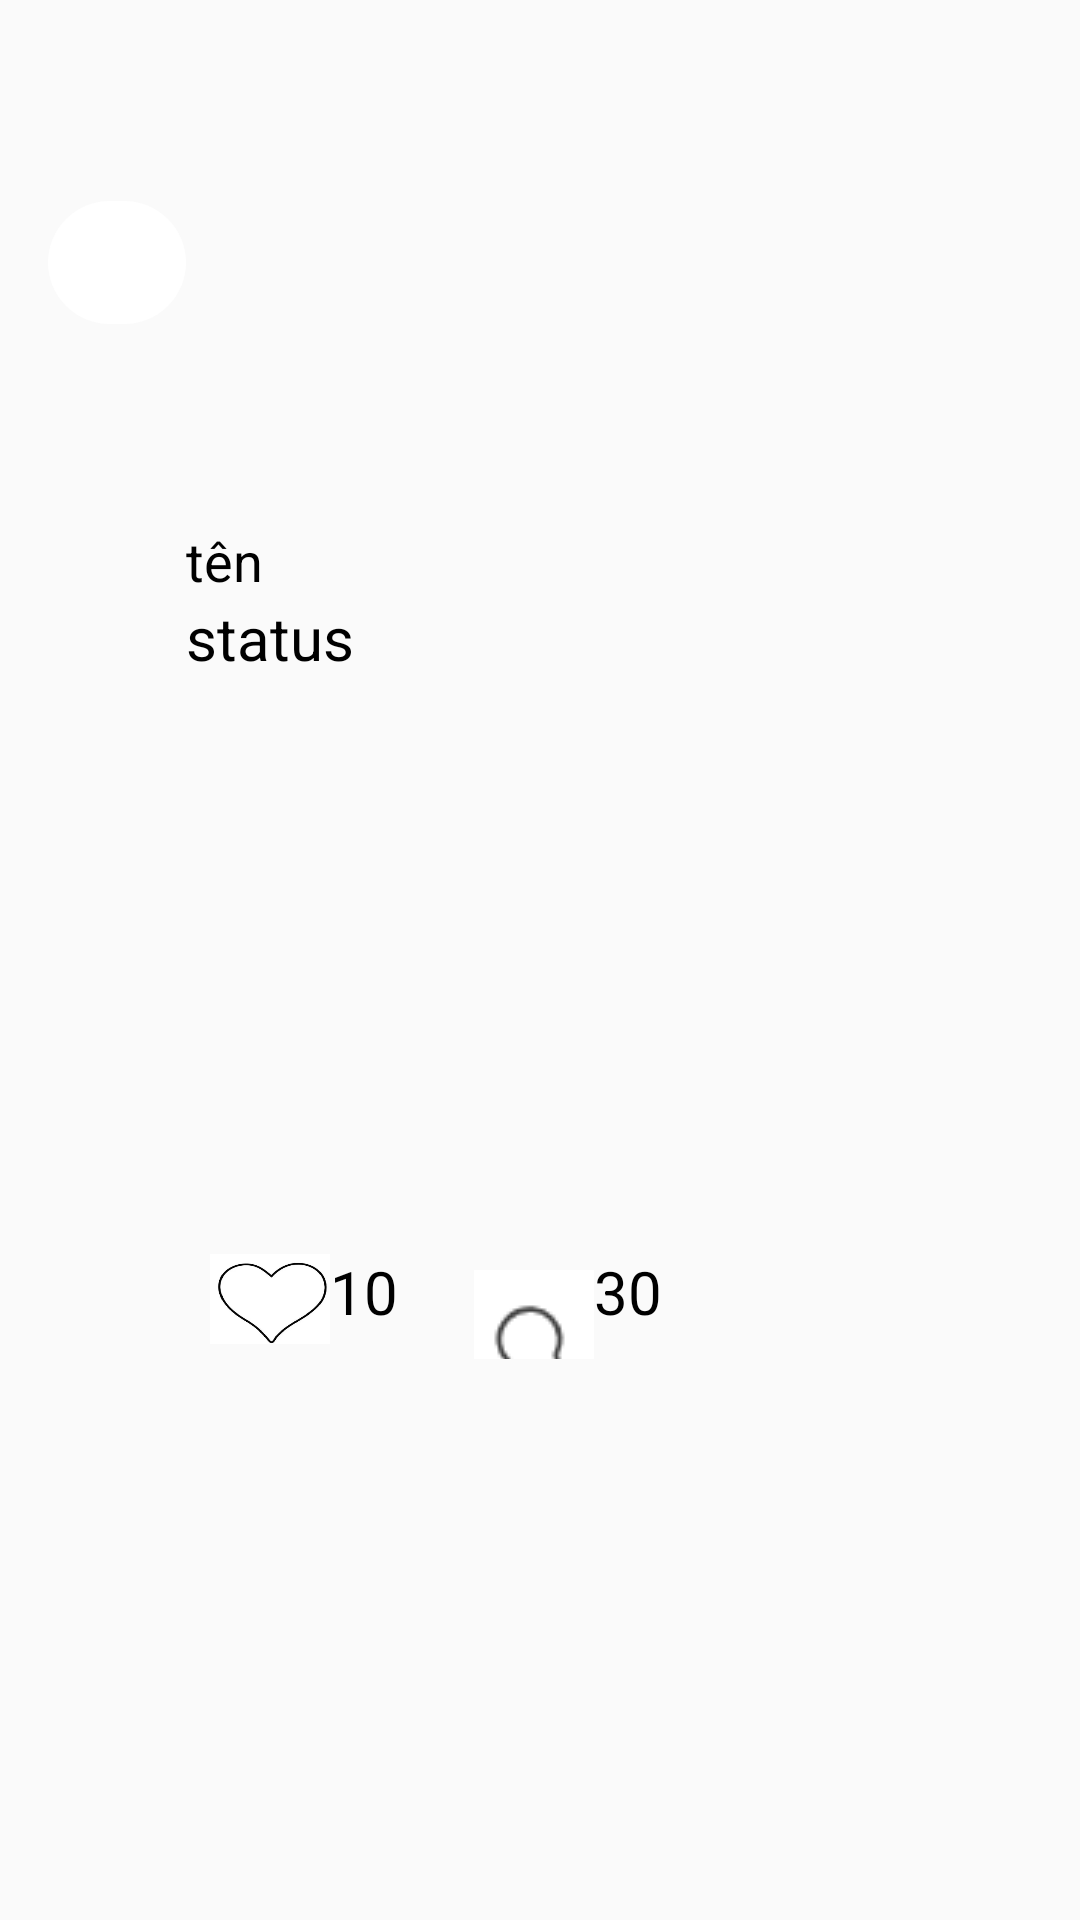

Where to tap for icons on this 1080*1920 app screen, as point (x, y):
unlike: point (272, 1303)
